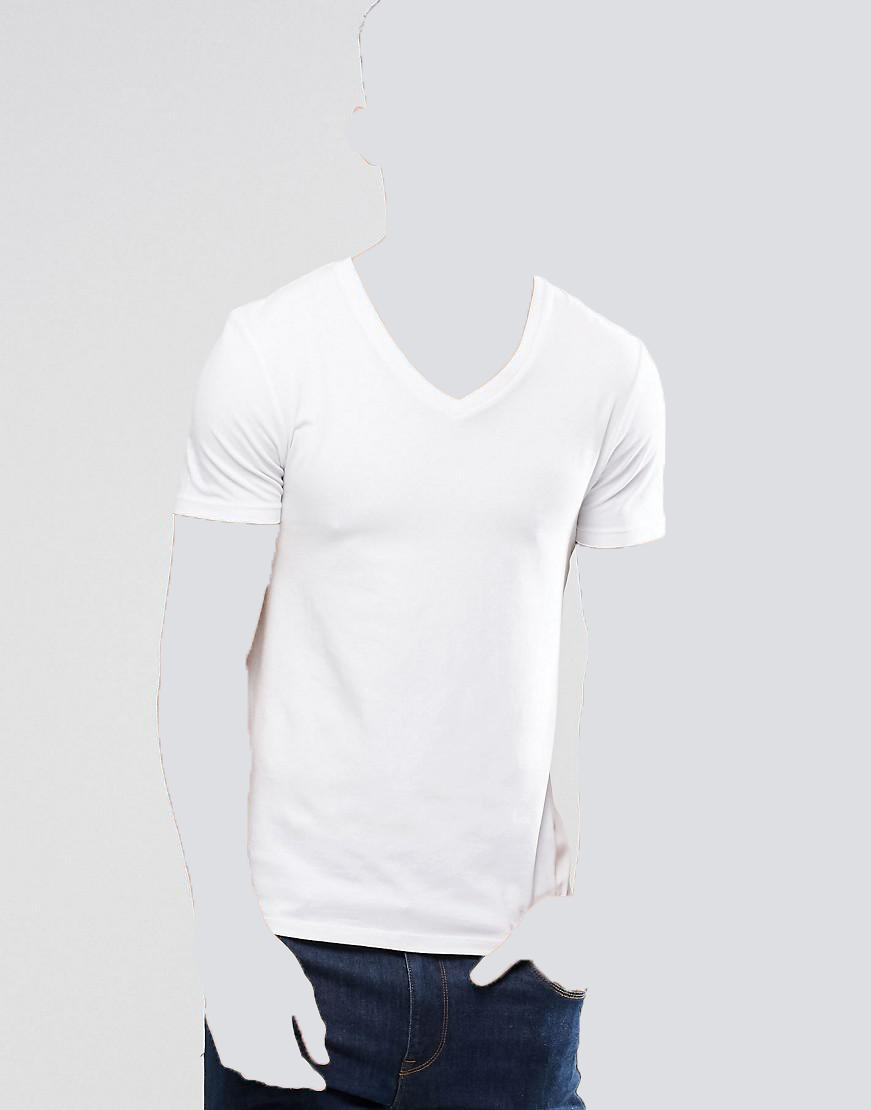teeshirt: (174, 256, 712, 962)
